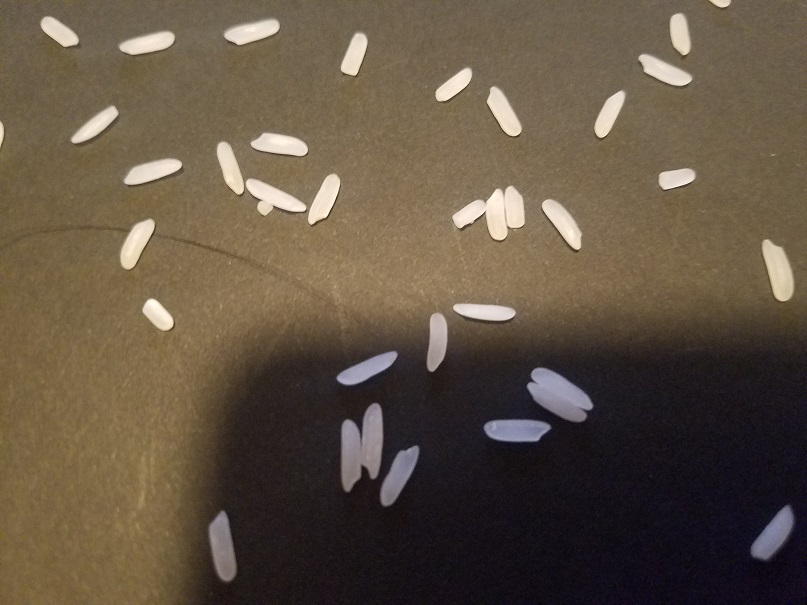egg: (530, 364, 597, 413), (747, 504, 796, 565), (376, 446, 421, 509), (525, 381, 588, 425), (203, 506, 238, 584), (336, 348, 400, 387), (244, 176, 309, 214), (760, 237, 796, 305), (481, 83, 523, 140), (69, 102, 121, 148), (635, 50, 696, 89), (542, 196, 585, 251), (118, 215, 158, 271), (213, 139, 249, 199), (305, 170, 342, 226), (591, 86, 628, 140), (122, 155, 185, 186), (481, 417, 553, 444), (248, 128, 309, 159), (115, 27, 176, 58), (220, 17, 281, 48), (360, 402, 384, 479), (338, 418, 361, 497), (432, 64, 475, 105), (39, 11, 82, 51), (337, 27, 368, 79), (450, 301, 520, 322), (425, 312, 449, 372), (140, 294, 179, 330), (448, 196, 487, 231), (501, 183, 528, 232), (487, 188, 511, 243), (667, 12, 695, 59), (657, 167, 698, 191), (257, 197, 273, 215), (707, 1, 736, 10)
